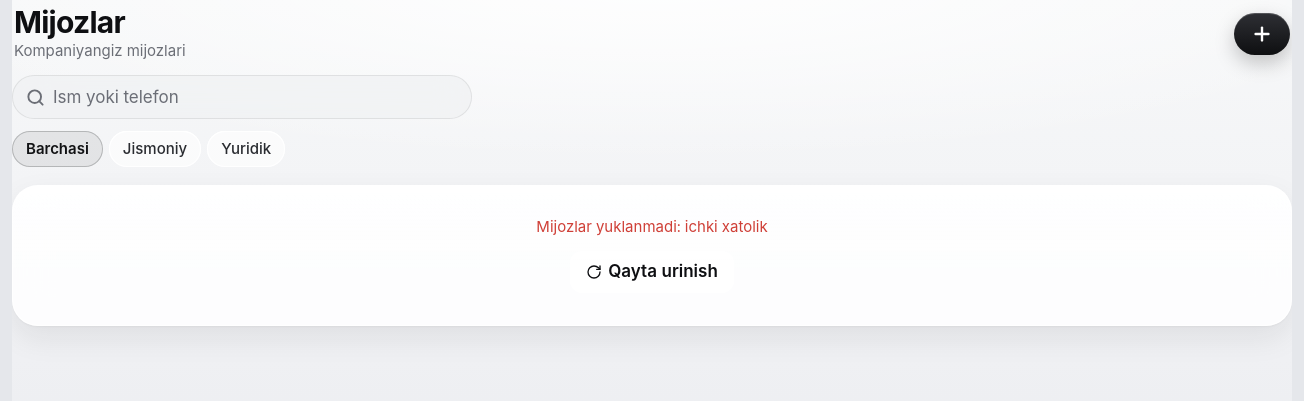
a list that did not load says why and offers to try again
expect the message reads "Mijozlar yuklanmadi: ichki xatolik": met, box [536, 217, 768, 236]
Click the button "Qayta urinish" at (652, 272), box [569, 250, 735, 294]
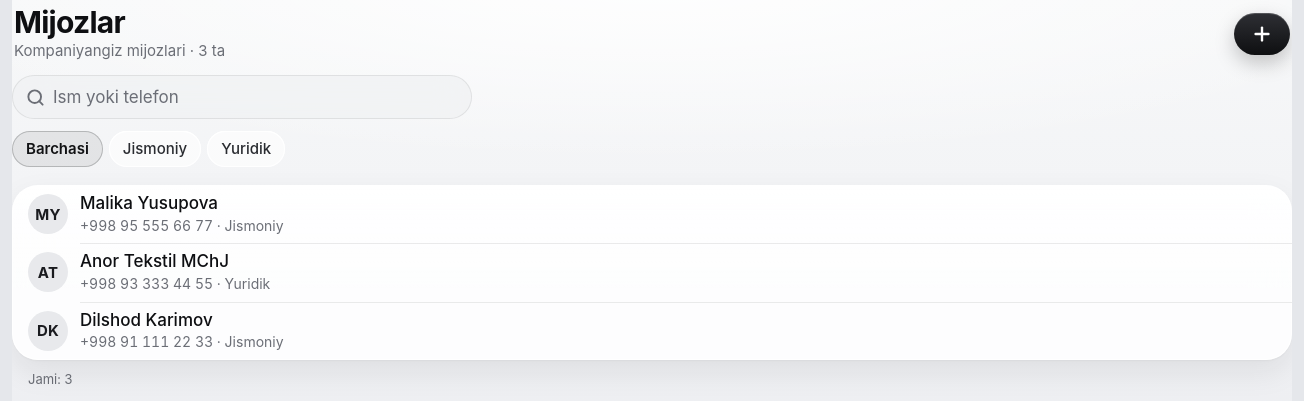
expect the number of links is 3: met, box [28, 193, 284, 234]; [28, 251, 270, 292]; [28, 310, 284, 351]
expect the message "Mijozlar yuklanmadi: ichki xatolik" is gone: met
